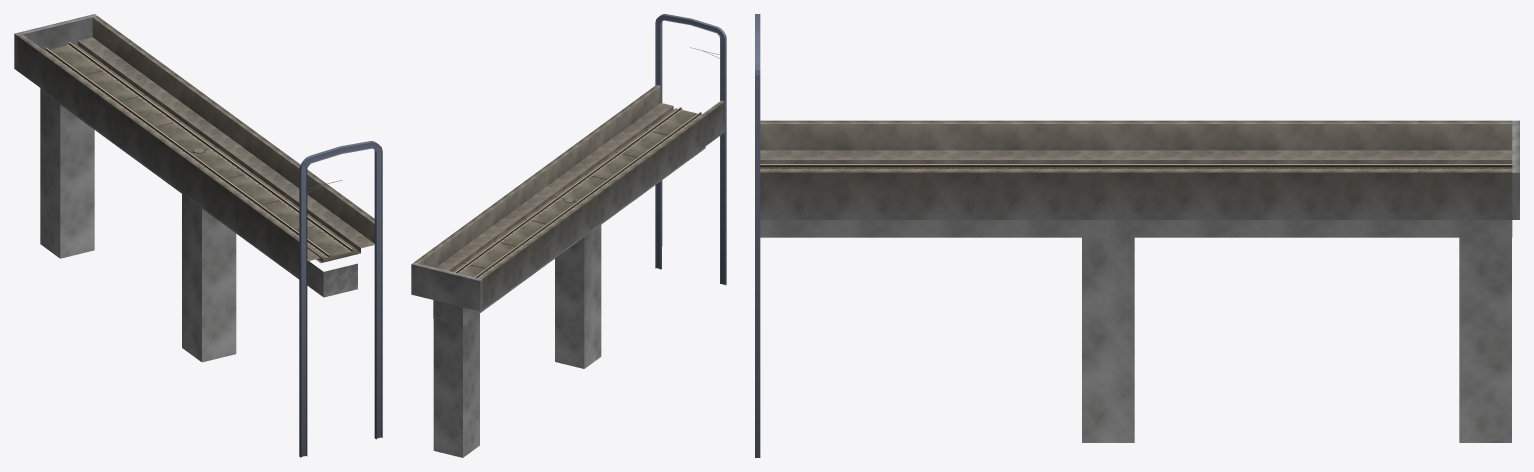
File: AMB_TOYO_1RAIL.glb
The picture shows the model from 3 angles, left to right: view 1: azimuth 30°, elevation 25°; view 2: azimuth 150°, elevation 25°; view 3: azimuth 270°, elevation 25°; orthographic projection. The views are drawn at different scales.
Visible parts, largest first — view 1: obj6, obj3; view 2: obj6, obj3; view 3: obj6, obj3.
Boxes of the visible parts, bbox=[...] form: obj6: bbox=[17, 16, 382, 457]; obj3: bbox=[14, 14, 97, 70]; obj6: bbox=[414, 14, 726, 457]; obj3: bbox=[411, 262, 482, 311]; obj6: bbox=[755, 14, 1512, 457]; obj3: bbox=[1512, 120, 1519, 219].
Size of the model in its own units: 16.55 by 58.47 by 101.
Materials: 4 (3 with a texture image).
